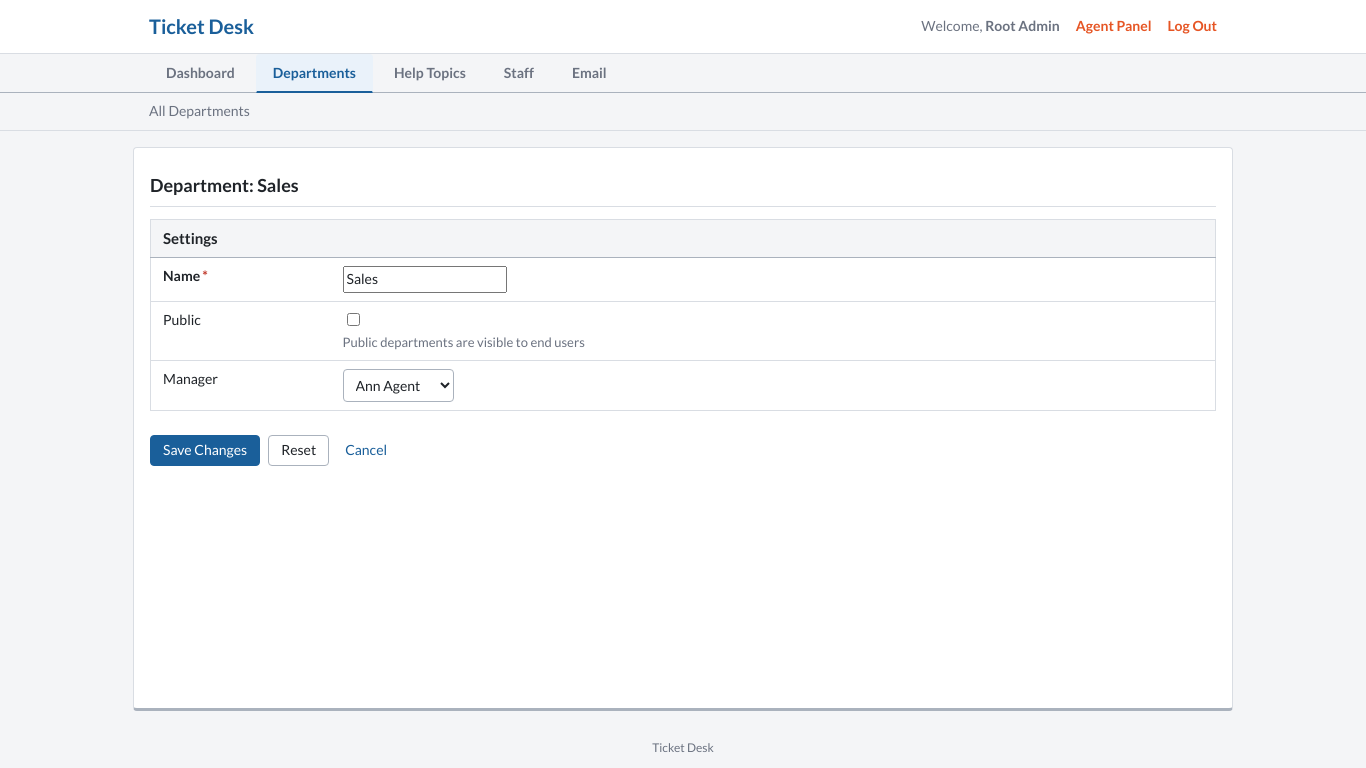
Test: a 404 on save shows the banner and keeps the edits although the record left the list
Replace the text in the field labelled "Name*" with "Sales EMEA" at coordinates (424, 280), box [342,266,506,293]
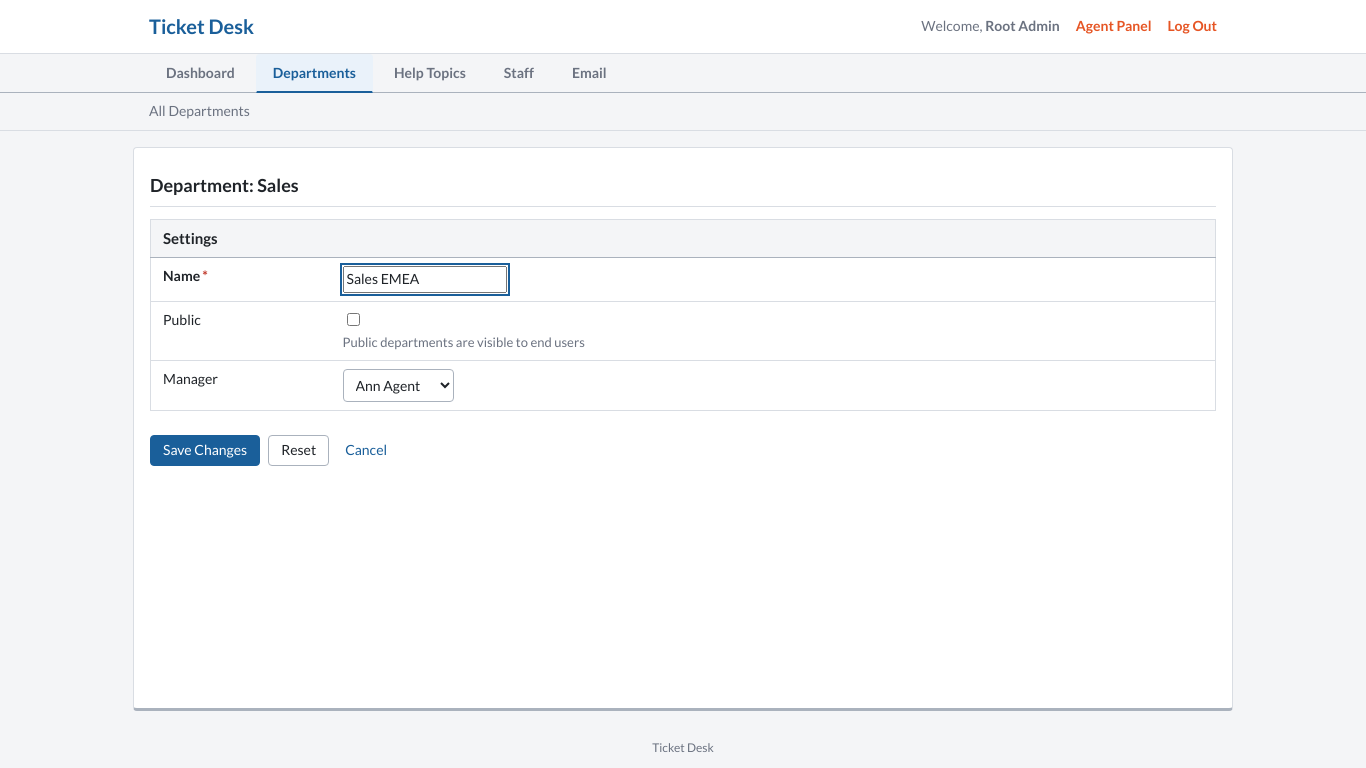
Click the button "Save Changes".
click(205, 450)  # box [150,435,260,466]
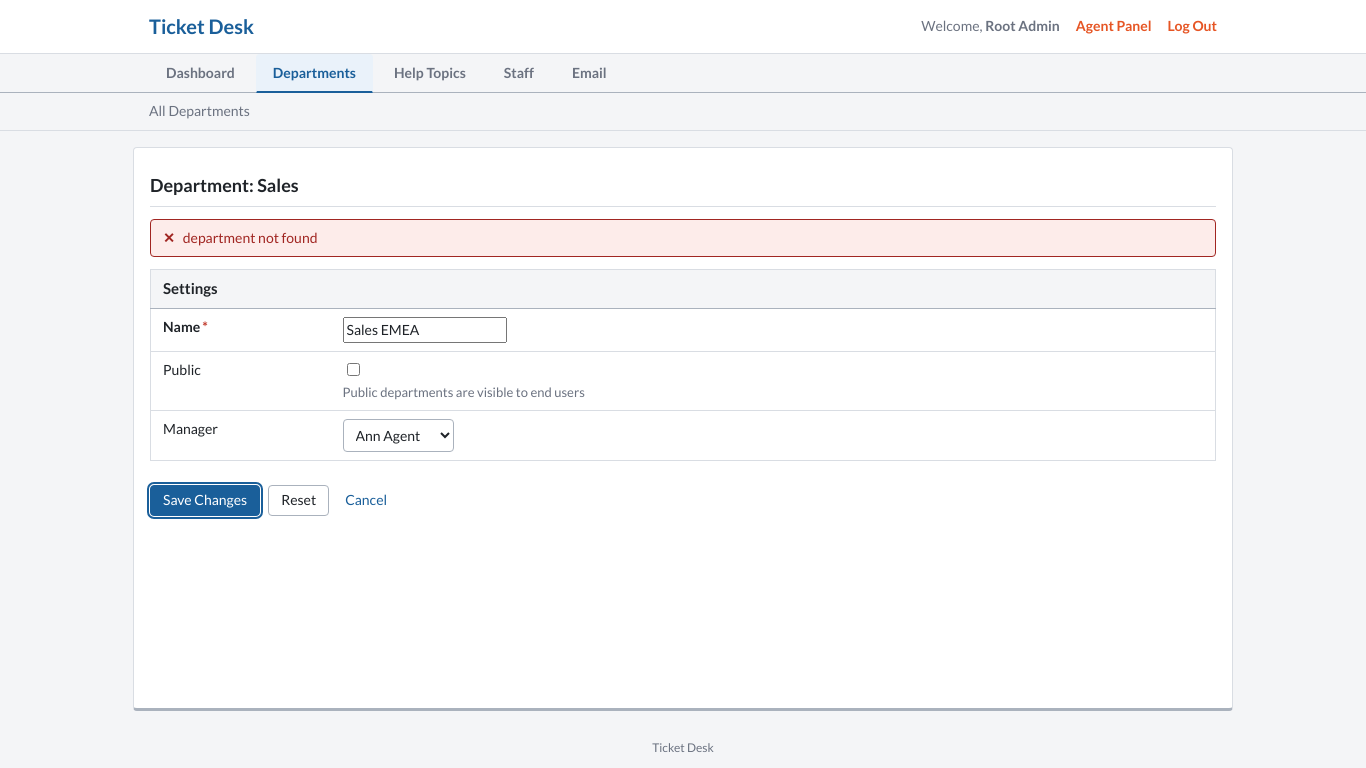
expect the message shows "department not found": met, box [183,229,318,246]
